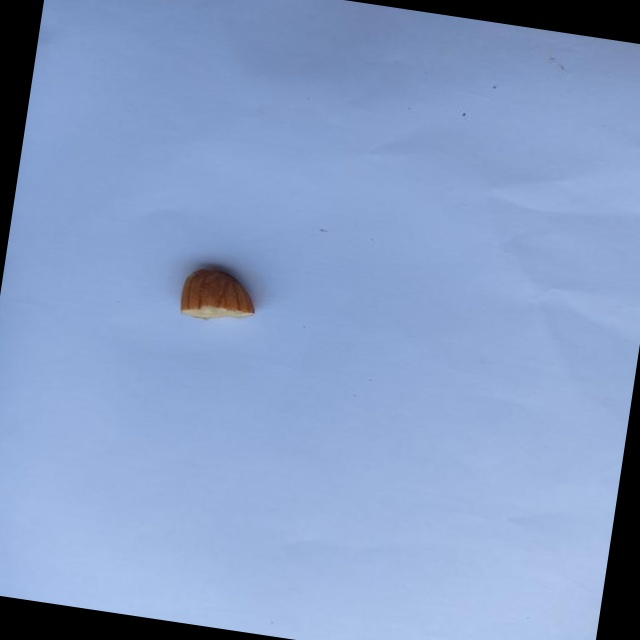grade4: (171, 257, 270, 332)
